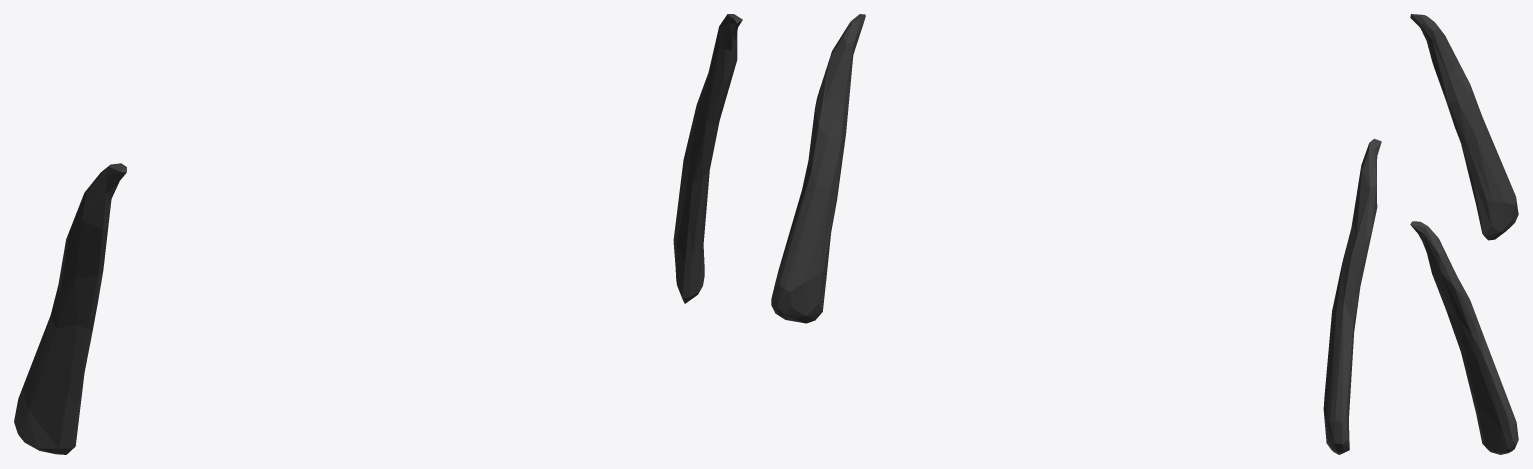
File: m_flexor_digiti_I_brevis.glb
The picture shows the model from 3 angles, left to right: view 1: azimuth 30°, elevation 25°; view 2: azimuth 150°, elevation 25°; view 3: azimuth 270°, elevation 25°; orthographic projection. The views are drawn at different scales.
Parts seen in each view (by area): view 1: m_flexor_digiti_I_brevis; view 2: m_flexor_digiti_I_brevis; view 3: m_flexor_digiti_I_brevis.
Boxes of the visible parts, bbox=[...] form: m_flexor_digiti_I_brevis: bbox=[14, 14, 742, 454]; m_flexor_digiti_I_brevis: bbox=[771, 14, 1381, 454]; m_flexor_digiti_I_brevis: bbox=[1410, 14, 1518, 454].
Size of the model in its own units: 0.00254 by 0.00116 by 0.000499.
Materials: 1 (1 with a texture image).
